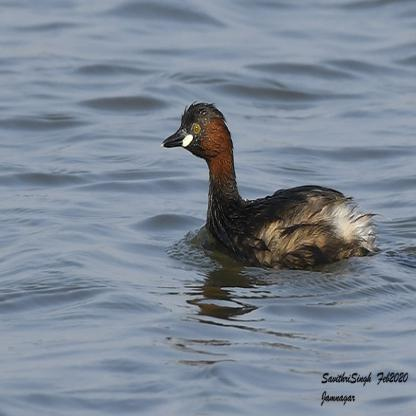Burung: (161, 102, 379, 266)
